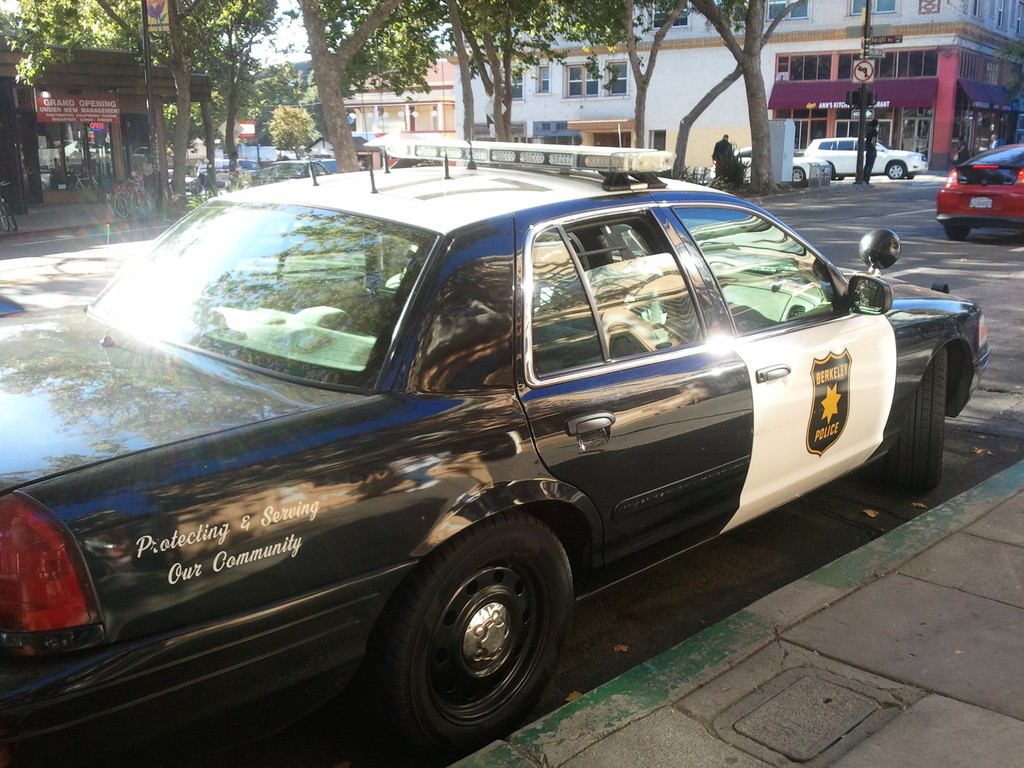Car: (0, 155, 986, 767), (936, 144, 1023, 238), (804, 135, 924, 180), (711, 148, 832, 183)
